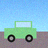vehicle: (4, 21, 36, 42)
